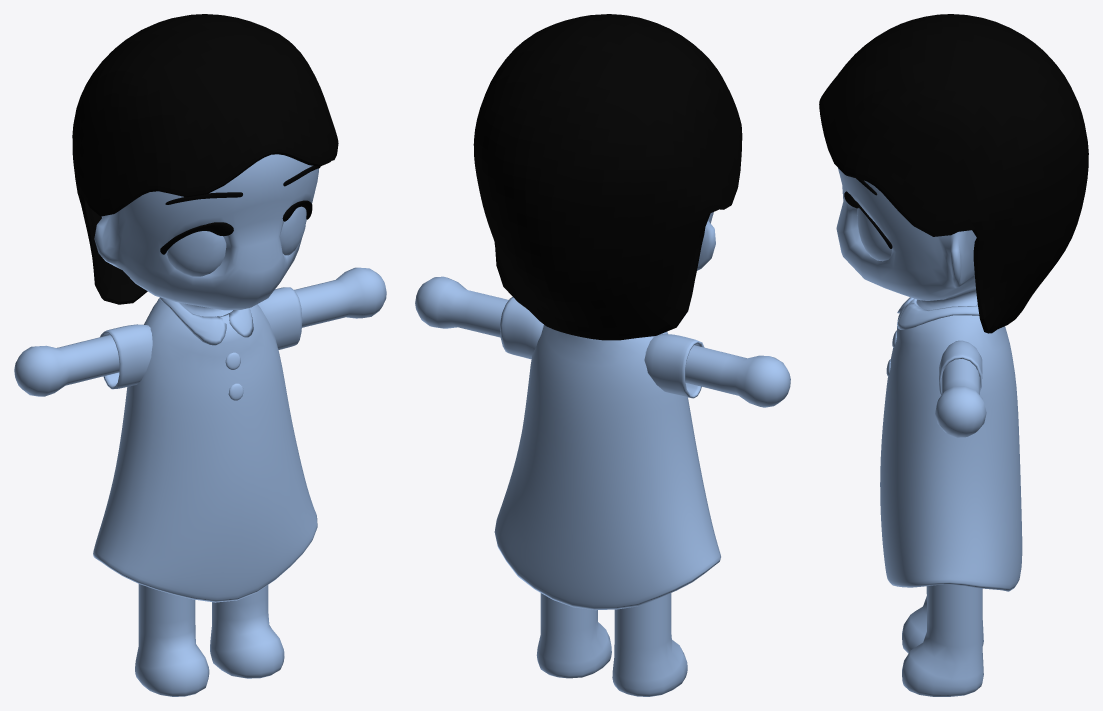
Rendered from baby.fbx.
3 views of the same model, side by side, from view 1: azimuth 30°, elevation 25°; view 2: azimuth 150°, elevation 25°; view 3: azimuth 270°, elevation 25° (orthographic).
Visible parts, largest first — view 1: LP_DRESS.003, Retopo_Sphere, LP_base.005, LP_EYE.005, LP_EyeLeash.005; view 2: Retopo_Sphere, LP_DRESS.003, LP_base.005; view 3: Retopo_Sphere, LP_DRESS.003, LP_base.005, LP_EYE.005.
Part boxes in pixels (left/top/right/bottom): LP_DRESS.003: left=93, top=287, right=317, bottom=602; Retopo_Sphere: left=72, top=14, right=338, bottom=304; LP_base.005: left=14, top=154, right=386, bottom=696; LP_EYE.005: left=167, top=206, right=306, bottom=276; LP_EyeLeash.005: left=160, top=166, right=320, bottom=254; Retopo_Sphere: left=473, top=14, right=742, bottom=340; LP_DRESS.003: left=494, top=297, right=720, bottom=610; LP_base.005: left=415, top=212, right=790, bottom=696; Retopo_Sphere: left=819, top=14, right=1088, bottom=333; LP_DRESS.003: left=880, top=297, right=1022, bottom=591; LP_base.005: left=836, top=168, right=986, bottom=696; LP_EYE.005: left=857, top=208, right=891, bottom=261.
Size of the model in its own units: 340 by 571 by 218.
